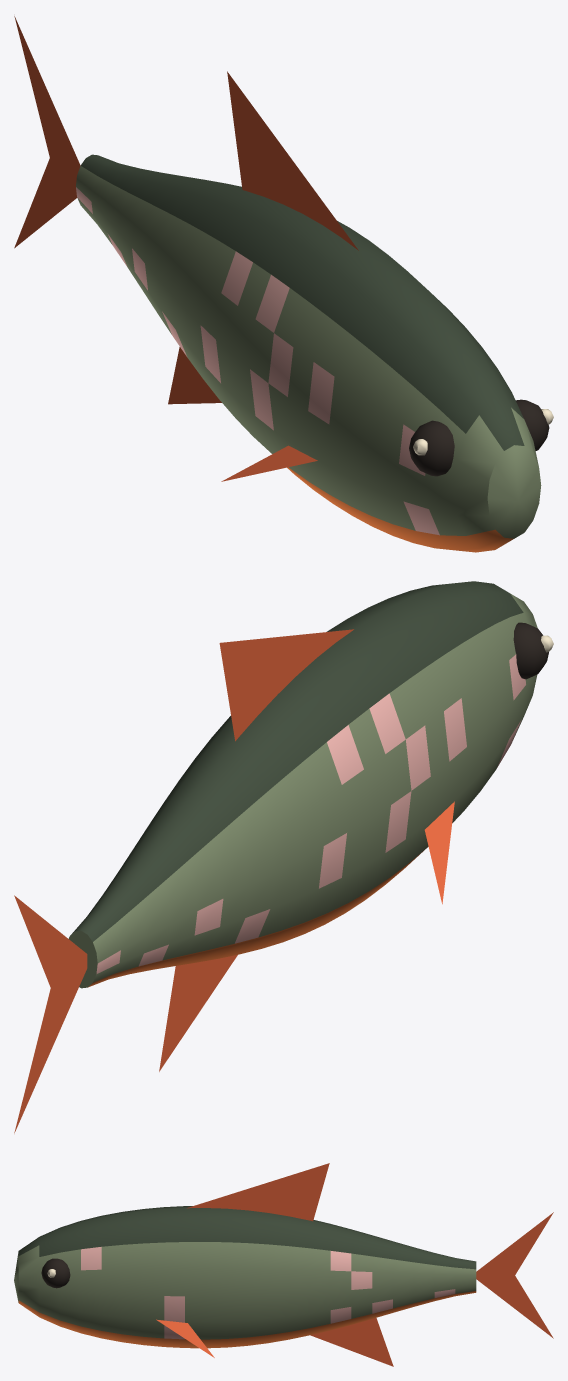
The model's file is arctic_char.fbx.
3 renders of one model, top to bottom at view 1: azimuth 30°, elevation 25°; view 2: azimuth 150°, elevation 25°; view 3: azimuth 270°, elevation 25°, orthographic. The views are drawn at different scales.
Visible parts, largest first — view 1: Fish_arctic_char_EXP; view 2: Fish_arctic_char_EXP; view 3: Fish_arctic_char_EXP.
Boxes of the visible parts, x1,y1,x2,y2 form: Fish_arctic_char_EXP: [14, 16, 553, 552]; Fish_arctic_char_EXP: [14, 581, 553, 1133]; Fish_arctic_char_EXP: [14, 1163, 553, 1366].
Bounding box in the file's own units: 0.1472 × 0.236 × 0.5664.
